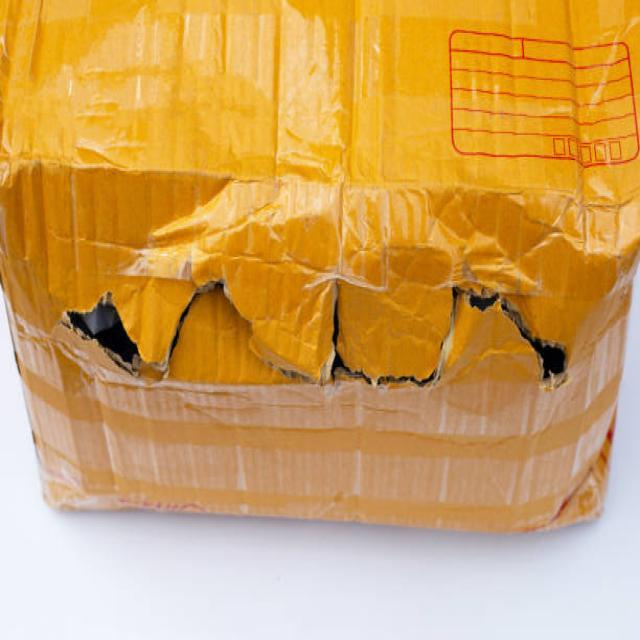box: (1, 1, 640, 534)
tear: (60, 274, 571, 391)
